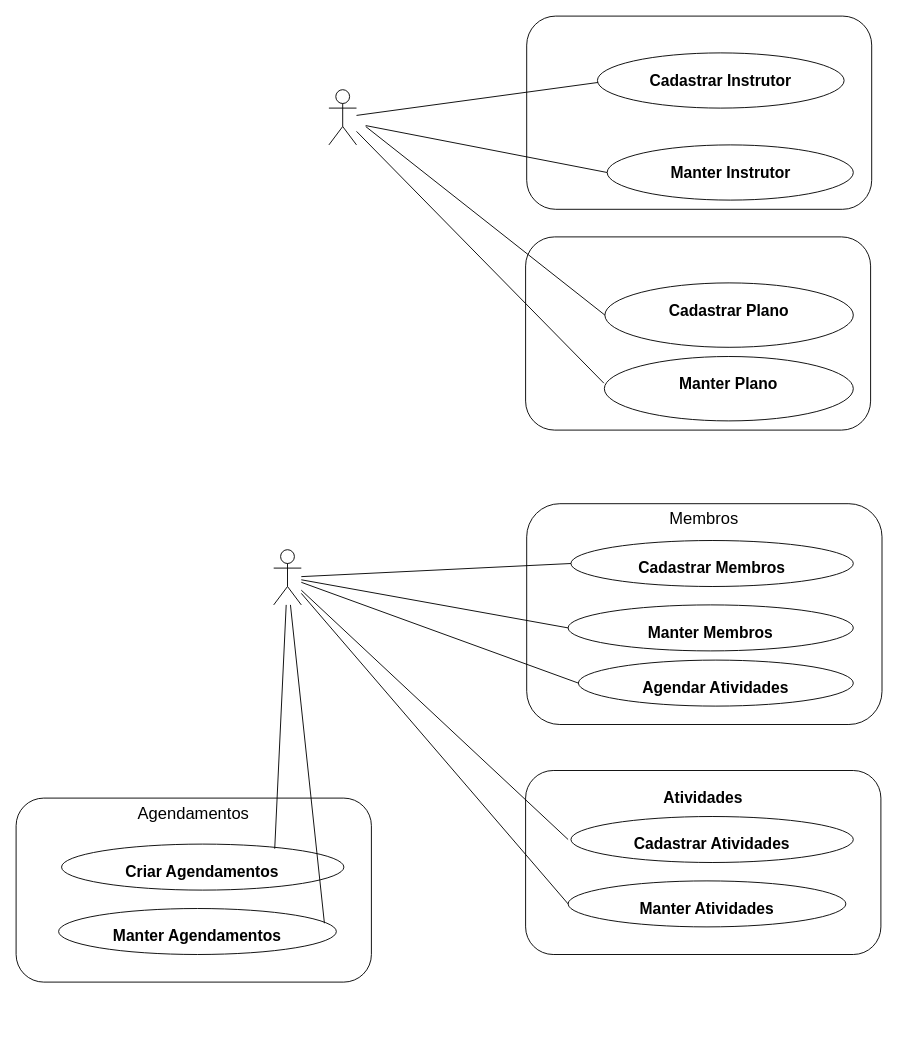
The diagram is 899 pixels wide and 1046 high, and some of its shapes have lost their labels. The shapes that lost their labels are listed below. From the top down, each one's box as (x1, y1, x2, y2) in pixels, then its label:
(328, 89, 356, 145): Admin
(526, 15, 872, 209): Instrutores
(525, 236, 871, 430): Plano de Assinatura
(273, 549, 301, 605): Staff da Academia 2
